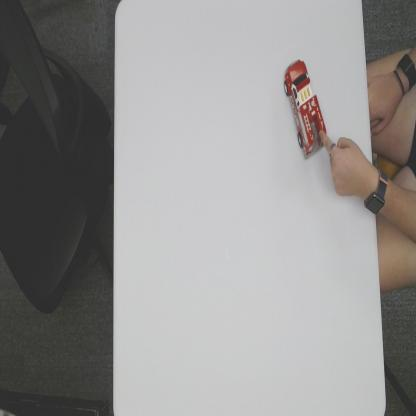Firetruck: (284, 58, 328, 162)
Hand: (316, 117, 369, 199)
